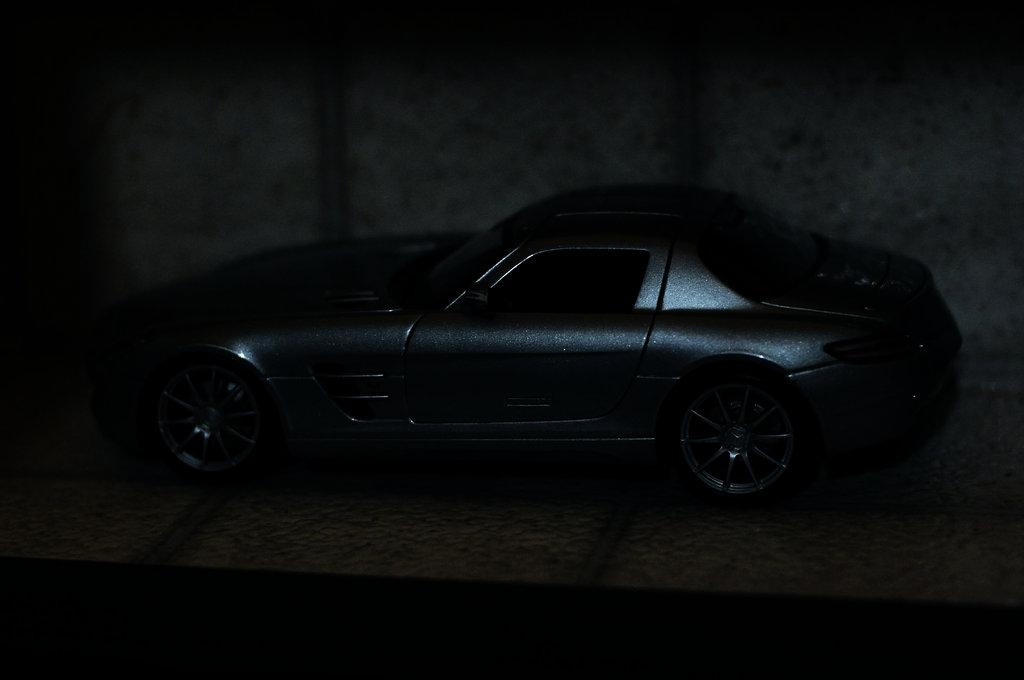car: (88, 147, 980, 517)
